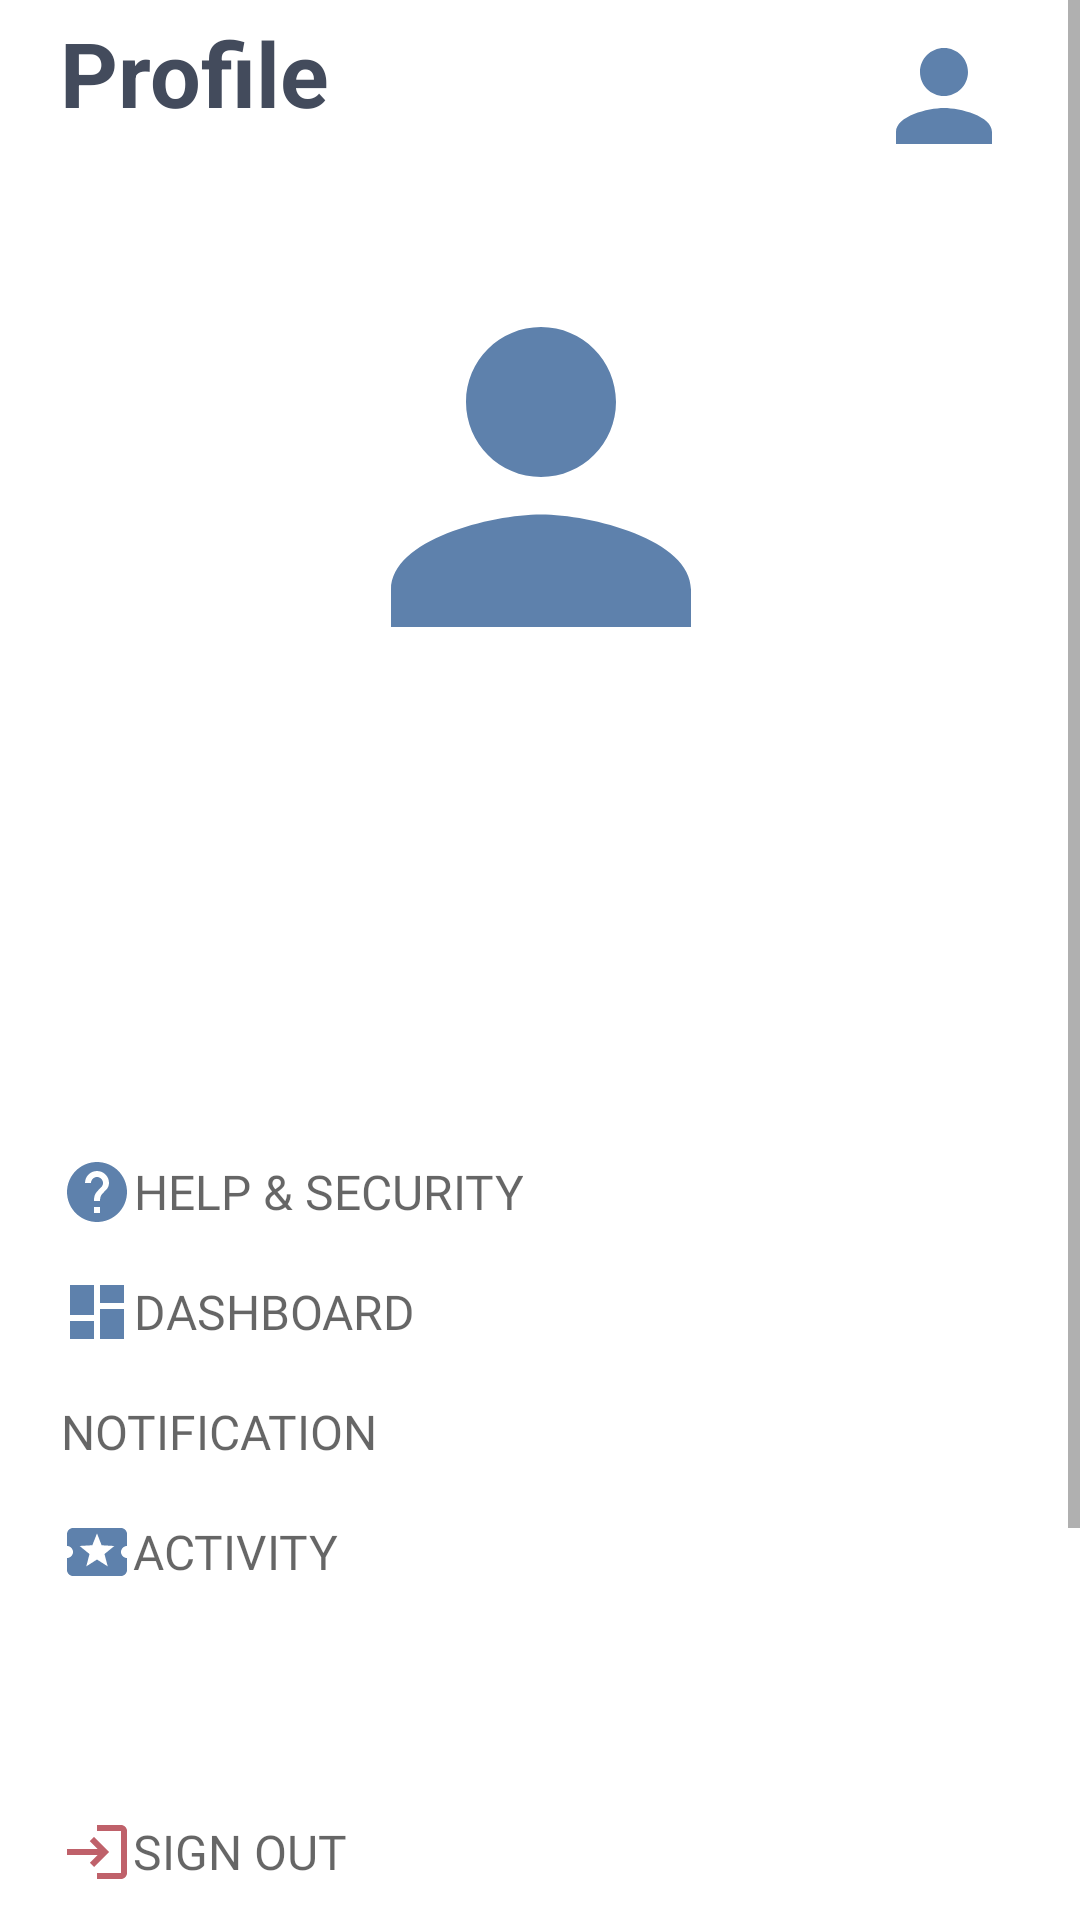

Where to tap for icons on this 1080px×1920px app screen, as point (x, y):
person: point (944, 96), point (541, 477)
